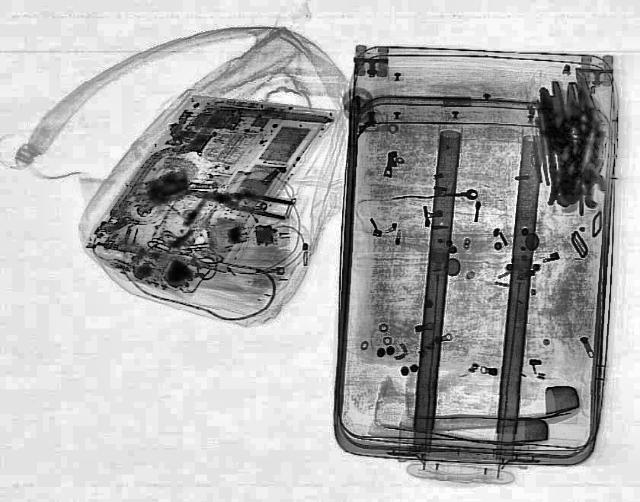Pliers: (184, 179, 296, 220)
